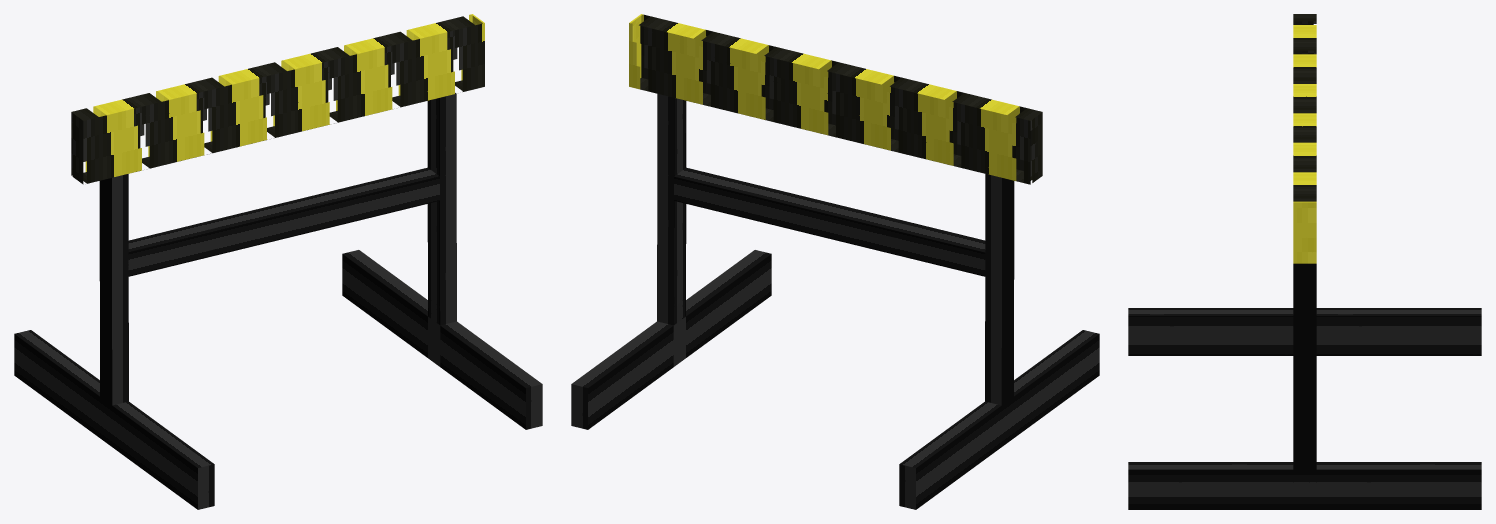
Rendered from BGN_PATH BLOCK.fbx.
The picture shows the model from 3 angles, left to right: view 1: azimuth 30°, elevation 25°; view 2: azimuth 150°, elevation 25°; view 3: azimuth 270°, elevation 25°; orthographic projection. The views are drawn at different scales.
Parts seen in each view (by area): view 1: BGN_PATH_BLOCK; view 2: BGN_PATH_BLOCK; view 3: BGN_PATH_BLOCK.
Boxes of the visible parts, box(x1,y1,x2,y2) form: BGN_PATH_BLOCK: box(14, 14, 542, 509); BGN_PATH_BLOCK: box(571, 14, 1099, 509); BGN_PATH_BLOCK: box(1128, 14, 1481, 509).
Bounding box in the file's own units: 129 × 102 × 102.
2 materials, 2 textured.
